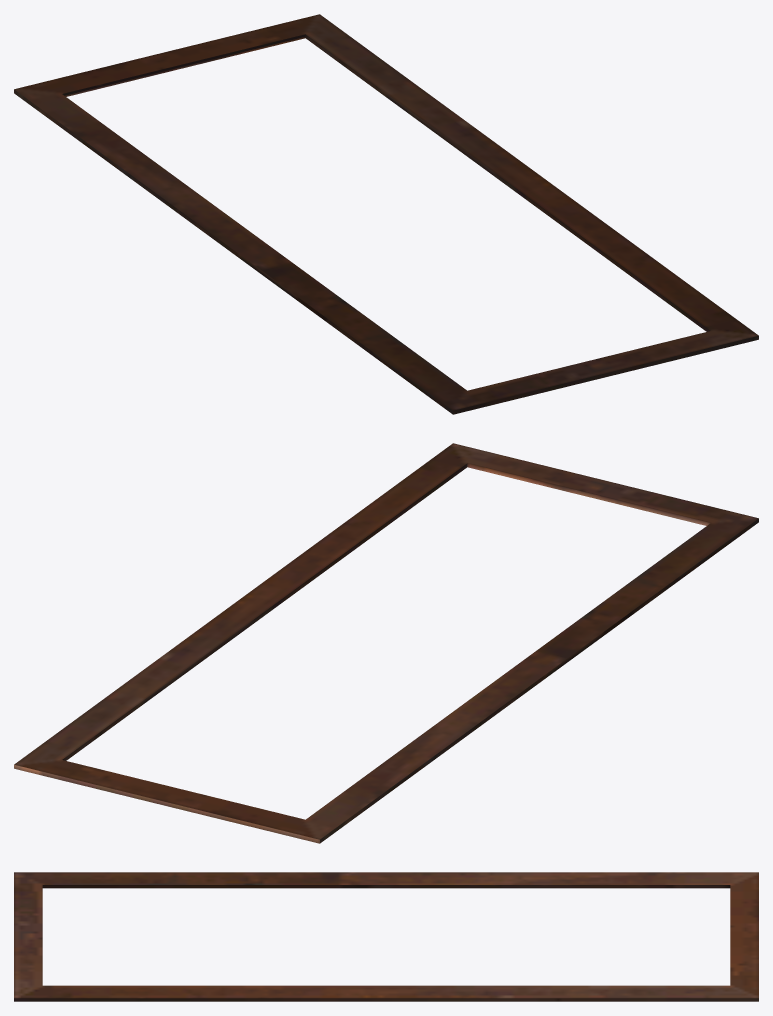
The model's file is guncabinet_door.glb.
The picture shows the model from 3 angles, top to bottom: view 1: azimuth 30°, elevation 25°; view 2: azimuth 150°, elevation 25°; view 3: azimuth 270°, elevation 25°; orthographic projection. The views are drawn at different scales.
Parts seen in each view (by area): view 1: guncabinet_door; view 2: guncabinet_door; view 3: guncabinet_door.
Part boxes in pixels (box(x1,y1,x2,y2)): guncabinet_door: box(14, 14, 758, 414); guncabinet_door: box(14, 443, 758, 843); guncabinet_door: box(14, 872, 758, 1001).
Size of the model in its own units: 0.5642 by 0.00788 by 1.4.
Materials: 1 (1 with a texture image).
